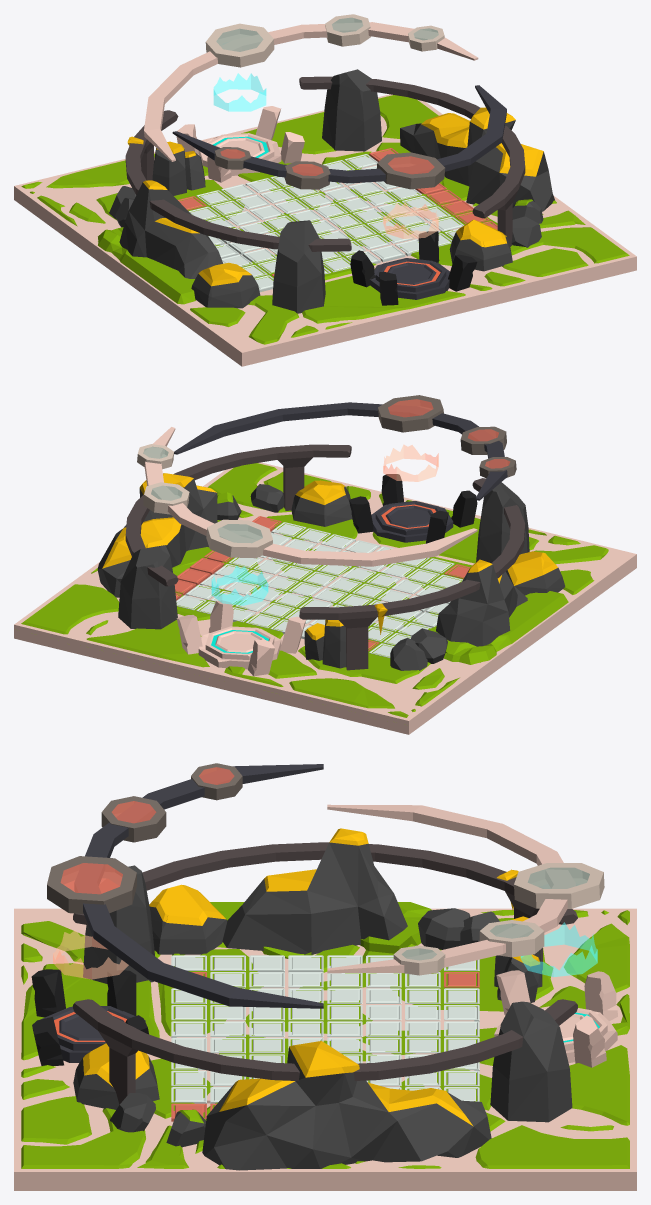
3 renders of one model, top to bottom at view 1: azimuth 30°, elevation 25°; view 2: azimuth 150°, elevation 25°; view 3: azimuth 270°, elevation 25°, orthographic. The views are drawn at different scales.
Parts seen in each view (by area): view 1: Plane.010, Plane.066, Plane.003, Circle.019, Plane.069, Plane.068, Circle.022, Circle.026, Circle.030, Circle.027, Circle.025, Circle.020 (+22 smaller); view 2: Plane.010, Plane.066, Plane.003, Circle.019, Circle.022, Plane.069, Circle.026, Plane.068, Circle.030, Circle.027, Circle.017, Circle.031 (+26 smaller); view 3: Plane.010, Plane.066, Plane.069, Plane.003, Circle.019, Plane.068, Circle.026, Circle.030, Circle.022, Circle.025, Circle.014, Plane.008 (+23 smaller).
Boxes of the visible parts, x1=… form: Plane.010: x1=21, y1=95, x2=629, y2=344; Plane.066: x1=14, y1=94, x2=636, y2=366; Plane.003: x1=189, y1=160, x2=463, y2=274; Circle.019: x1=125, y1=76, x2=525, y2=251; Plane.069: x1=400, y1=107, x2=554, y2=211; Plane.068: x1=119, y1=180, x2=222, y2=278; Circle.022: x1=144, y1=22, x2=478, y2=161; Circle.026: x1=172, y1=85, x2=506, y2=183; Circle.030: x1=322, y1=69, x2=381, y2=151; Circle.027: x1=272, y1=220, x2=325, y2=313; Circle.025: x1=191, y1=262, x2=260, y2=308; Circle.020: x1=205, y1=23, x2=274, y2=67; Plane.010: x1=21, y1=463, x2=608, y2=717; Plane.066: x1=14, y1=462, x2=636, y2=734; Plane.003: x1=185, y1=528, x2=462, y2=641; Circle.019: x1=125, y1=444, x2=525, y2=670; Circle.022: x1=144, y1=427, x2=477, y2=566; Plane.069: x1=97, y1=473, x2=217, y2=597; Circle.026: x1=174, y1=402, x2=507, y2=500; Plane.068: x1=436, y1=559, x2=527, y2=646; Circle.030: x1=118, y1=545, x2=177, y2=629; Circle.027: x1=476, y1=482, x2=529, y2=563; Circle.017: x1=198, y1=626, x2=281, y2=669; Circle.031: x1=291, y1=480, x2=352, y2=526; Plane.010: x1=21, y1=902, x2=629, y2=1168; Plane.066: x1=14, y1=908, x2=636, y2=1190; Plane.069: x1=202, y1=1041, x2=491, y2=1170; Plane.003: x1=171, y1=972, x2=479, y2=1103; Circle.019: x1=73, y1=842, x2=577, y2=1104; Plane.068: x1=222, y1=828, x2=407, y2=954; Circle.026: x1=75, y1=764, x2=323, y2=1008; Circle.030: x1=490, y1=1001, x2=572, y2=1122; Circle.022: x1=327, y1=804, x2=575, y2=973; Circle.025: x1=149, y1=884, x2=227, y2=954; Circle.014: x1=47, y1=856, x2=136, y2=913; Plane.008: x1=171, y1=955, x2=479, y2=1103.
Bounding box in the file's own units: 32 × 11.16 × 32.
Materials: 8 (1 with a texture image).
